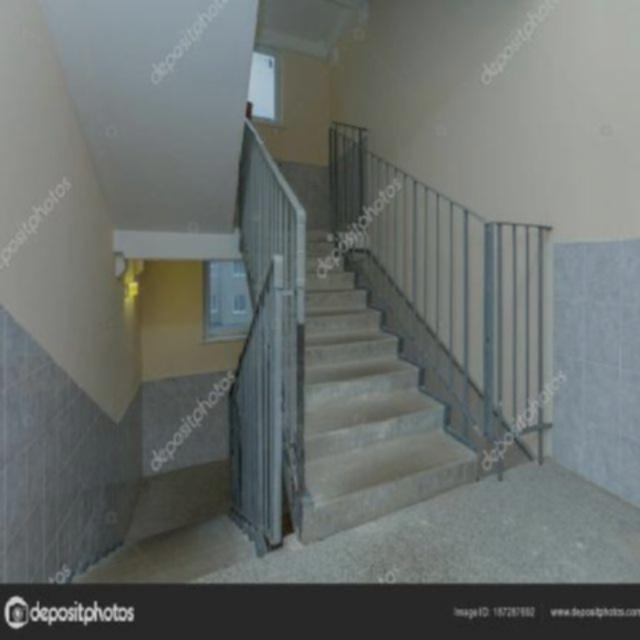stair: (235, 71, 502, 548)
